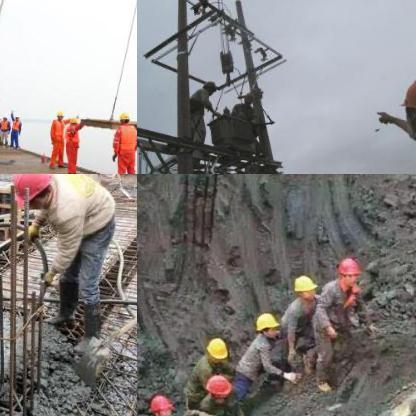Helmet: (6, 174, 60, 216), (393, 68, 415, 138), (203, 372, 235, 402), (336, 254, 360, 288), (291, 272, 315, 304), (252, 310, 277, 340), (206, 332, 228, 364), (146, 392, 174, 415), (199, 76, 217, 94), (116, 110, 130, 124), (65, 113, 79, 127), (51, 106, 64, 120)
